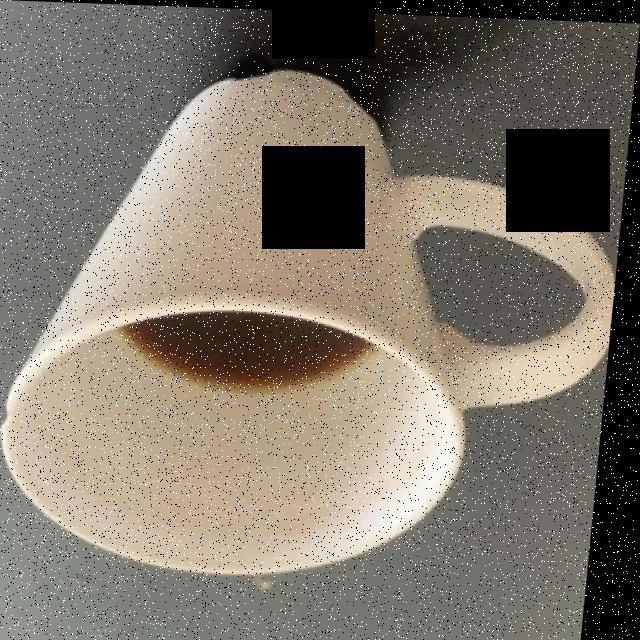coffee: (131, 311, 380, 390)
